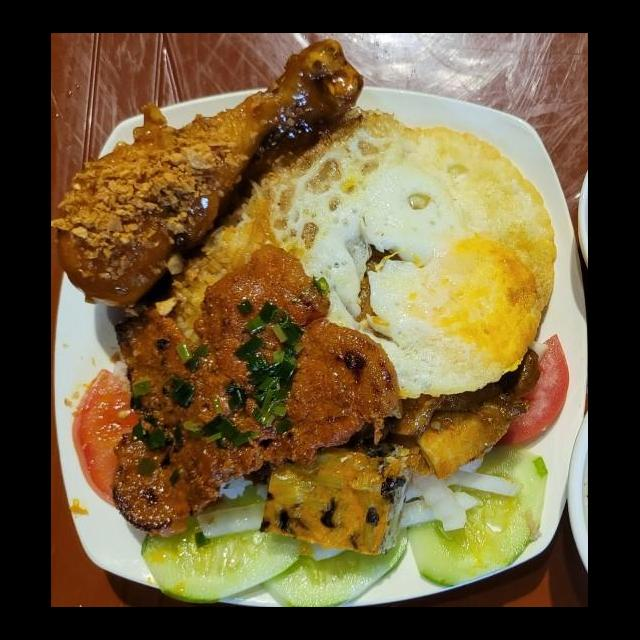dua chua: (396, 440, 520, 535)
suon: (106, 241, 404, 539)
trung: (232, 107, 560, 401), (256, 443, 418, 558)
